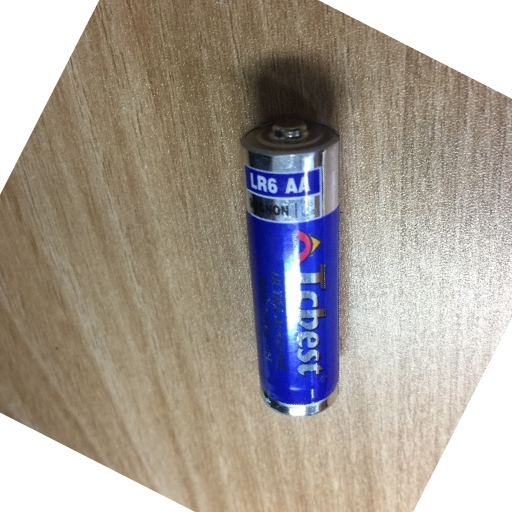Battery_0: (229, 105, 368, 425)
